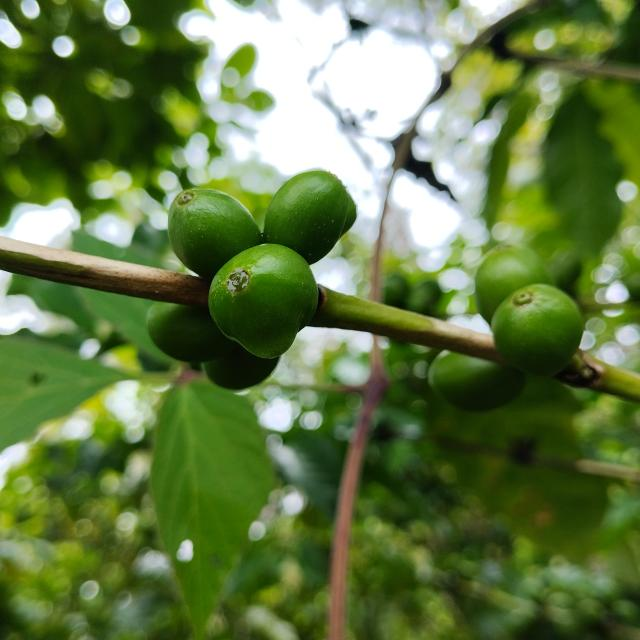green: (208, 244, 319, 358), (167, 188, 262, 280), (492, 284, 585, 376), (263, 170, 349, 264), (475, 245, 554, 323), (429, 351, 526, 412), (146, 302, 236, 362)
